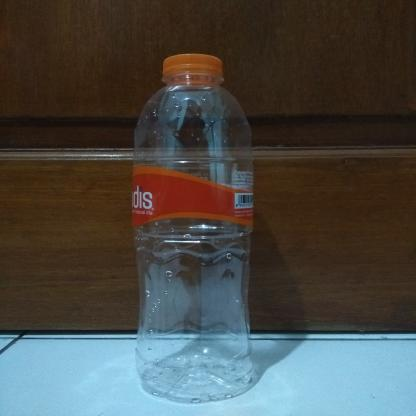bottle: (129, 49, 259, 404)
